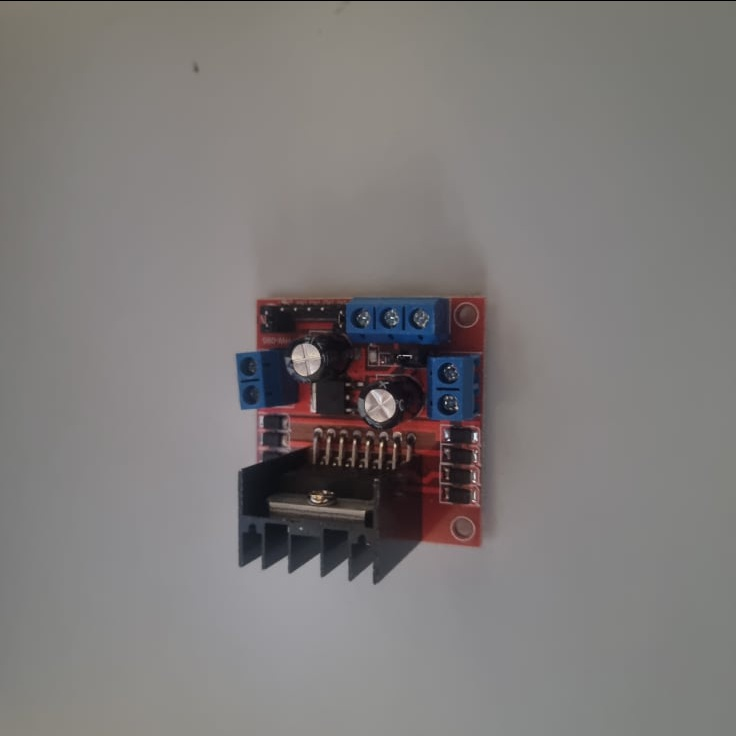MOTOR: (237, 292, 491, 586)
